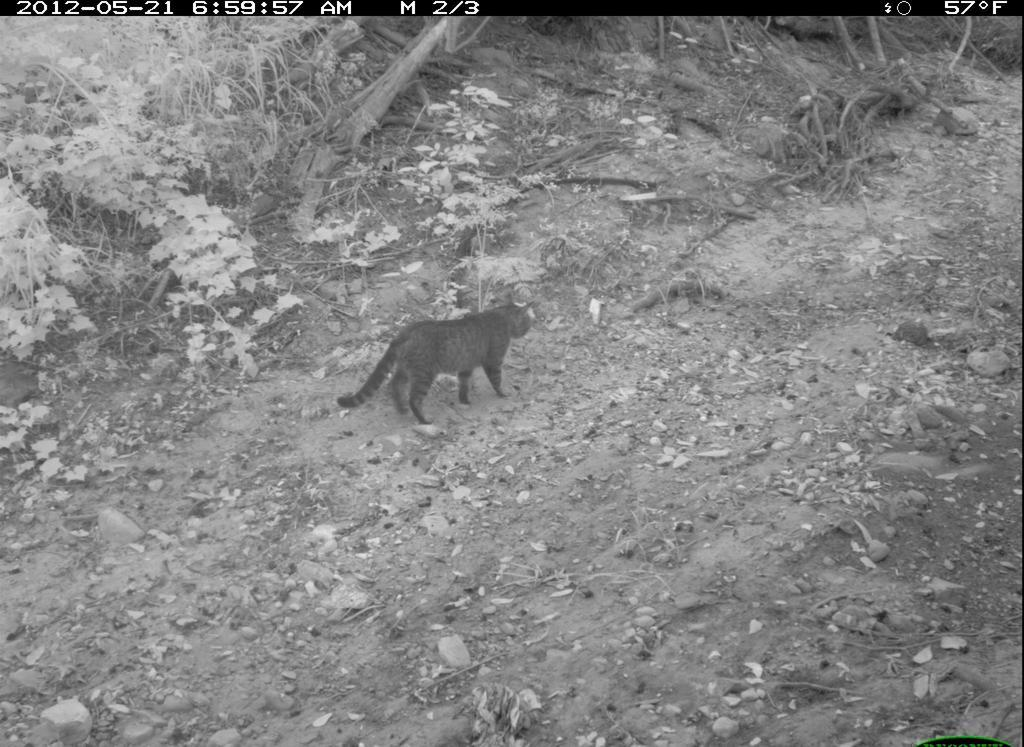cat: (325, 274, 540, 434)
